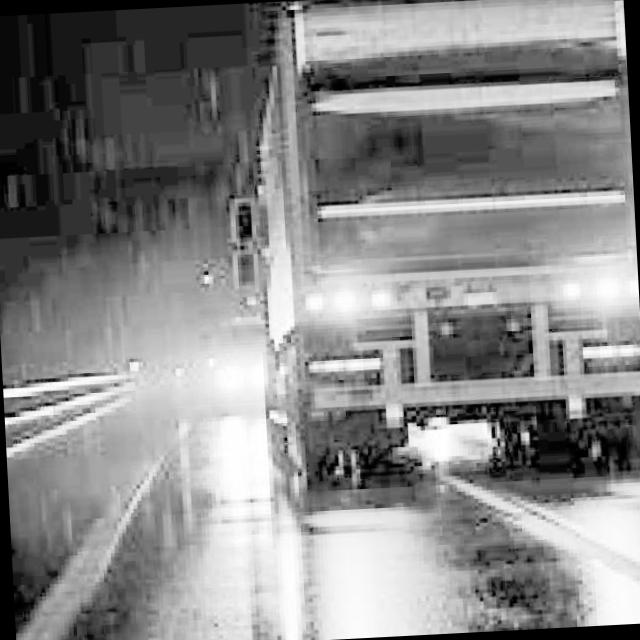Truck: (218, 0, 640, 495)
